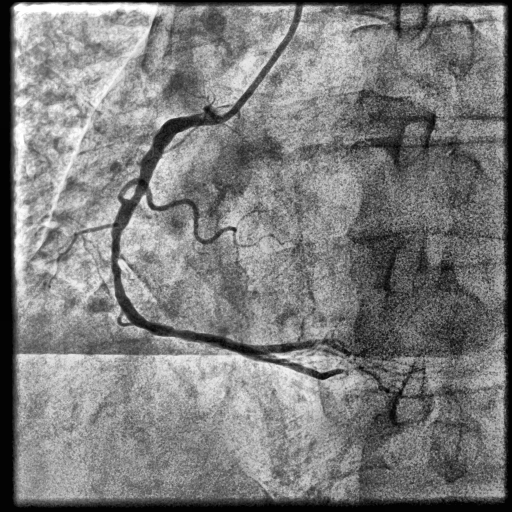pborca: (247, 338, 361, 357)
pda: (243, 354, 388, 380)
rca: (112, 109, 259, 354)
